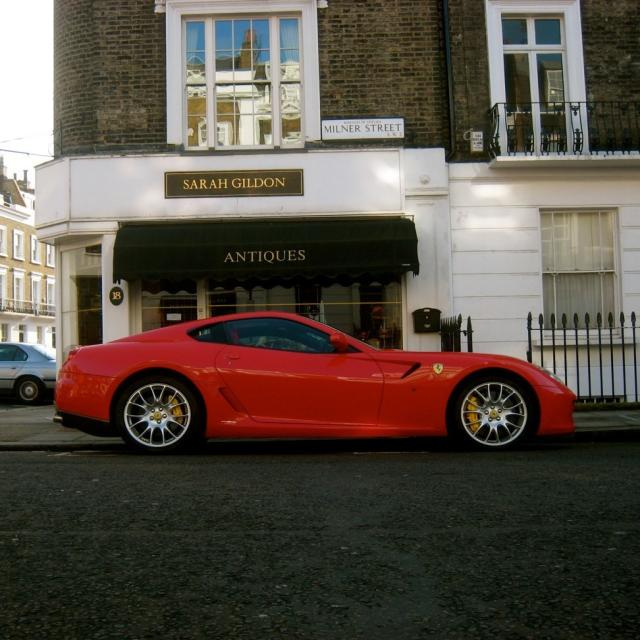car: (49, 304, 562, 457)
